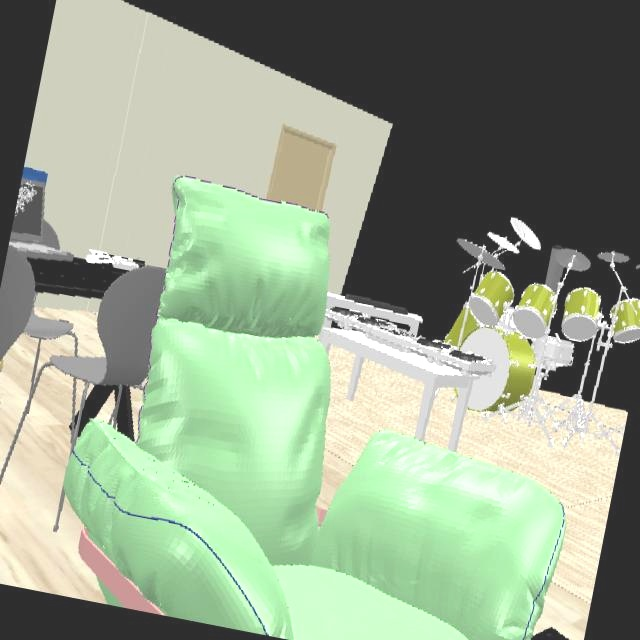book: (86, 251, 144, 274)
chair: (50, 268, 166, 442), (0, 247, 74, 369)
laptop: (8, 167, 73, 264)
sofa: (62, 177, 566, 640)
table: (317, 328, 473, 452), (27, 252, 129, 300)
